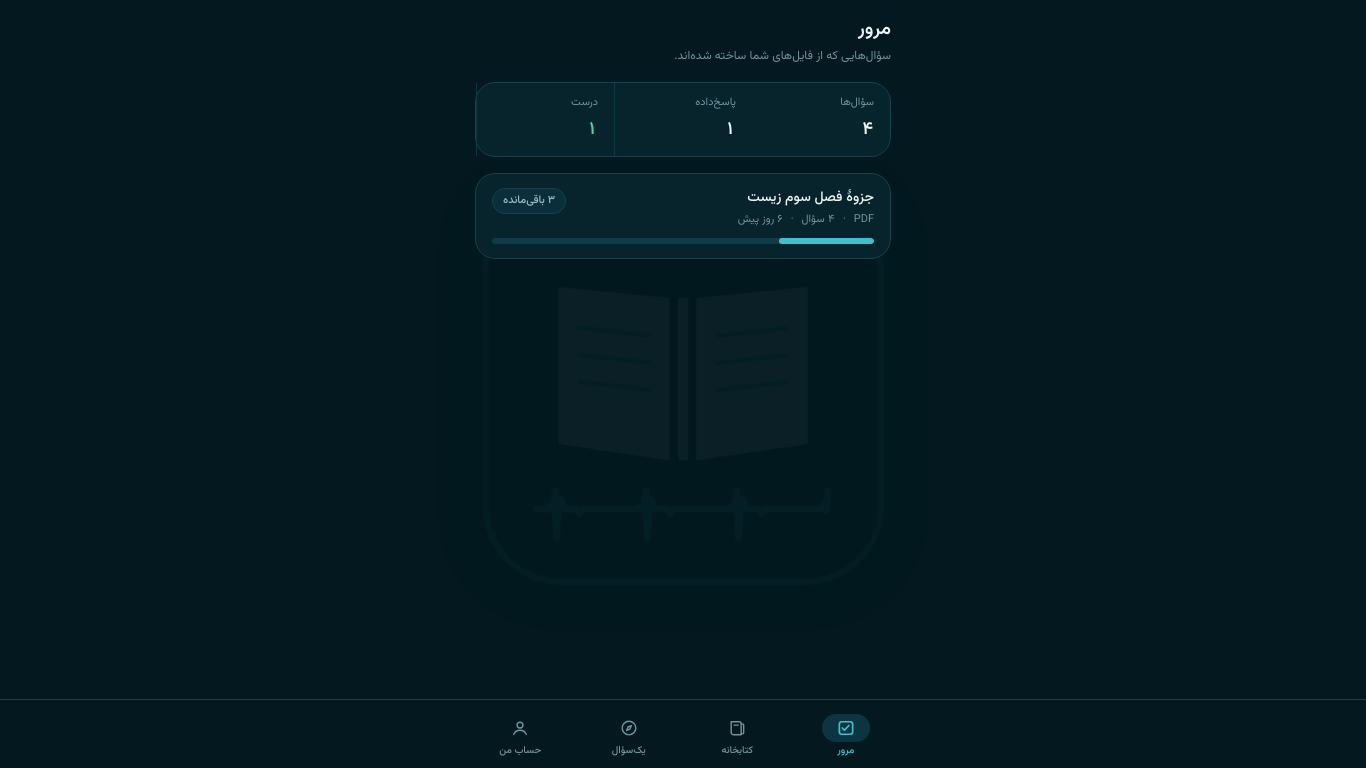
Scenario: Gamas Mini App shell › lists study packs, opens a pack and reaches Review from it
Expected: the tab "حساب من" is shown, 467,708 -> 574,762
Click the tab "کتابخانه" at {"x": 737, "y": 735}, box 684,708 -> 790,762
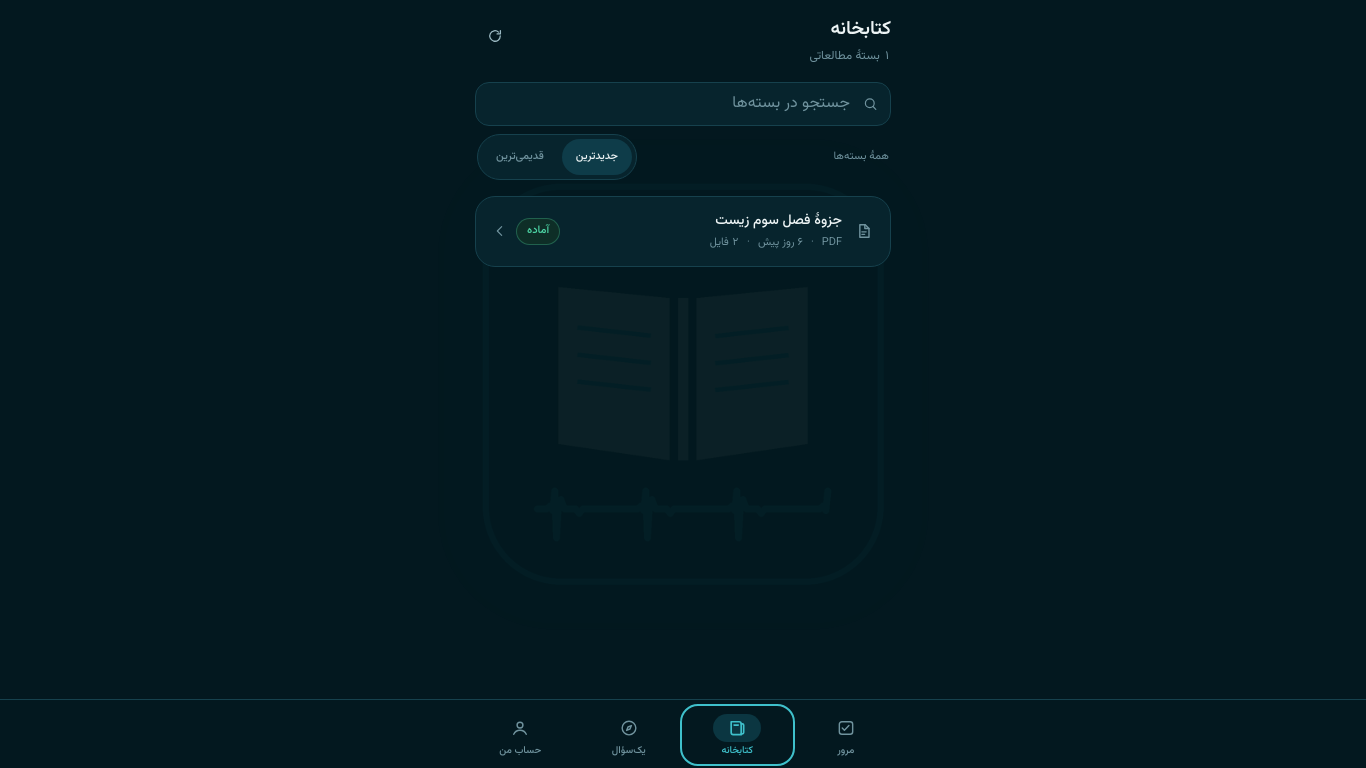
Result: the text "۲ فایل" is shown at 710,235 -> 739,252
Click the text "جزوهٔ فصل سوم زیست" at {"x": 779, "y": 221}, box 715,210 -> 842,232
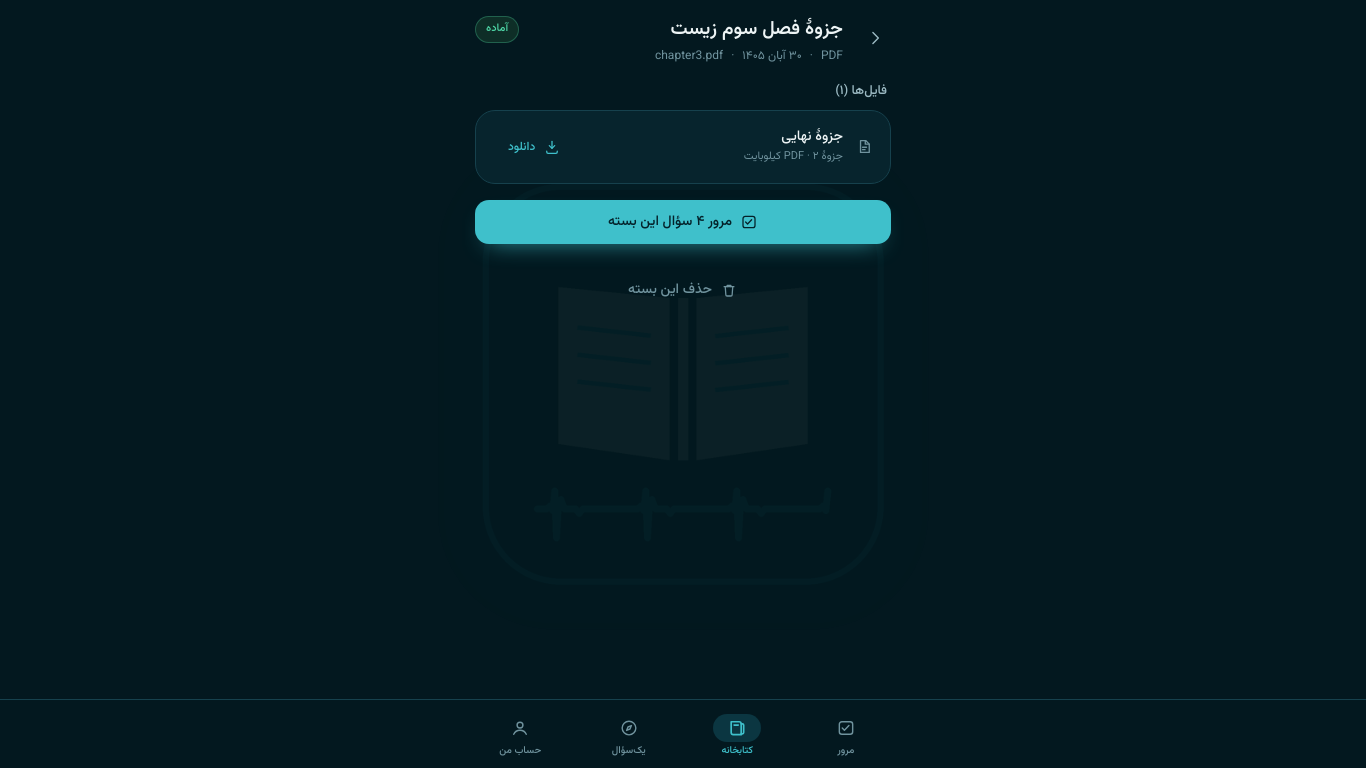
Result: the text "جزوهٔ نهایی" is shown at 781,126 -> 843,148
Result: the text "۲ کیلوبایت" is shown at 744,148 -> 843,165
Click the button "مرور ۴ سؤال این بسته" at {"x": 683, "y": 222}, box 475,200 -> 891,244
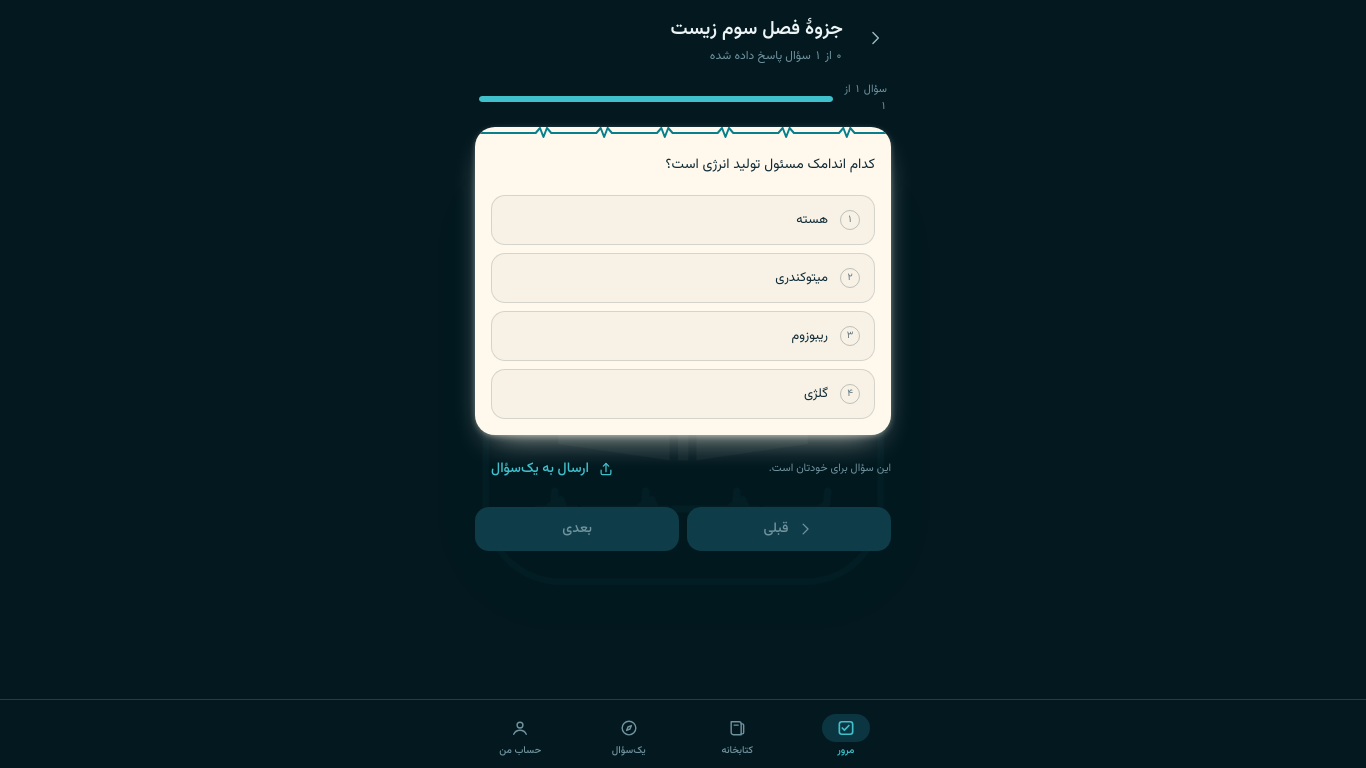
Result: the text "کدام اندامک مسئول تولید انرژی است؟" is shown at 666,154 -> 875,176
